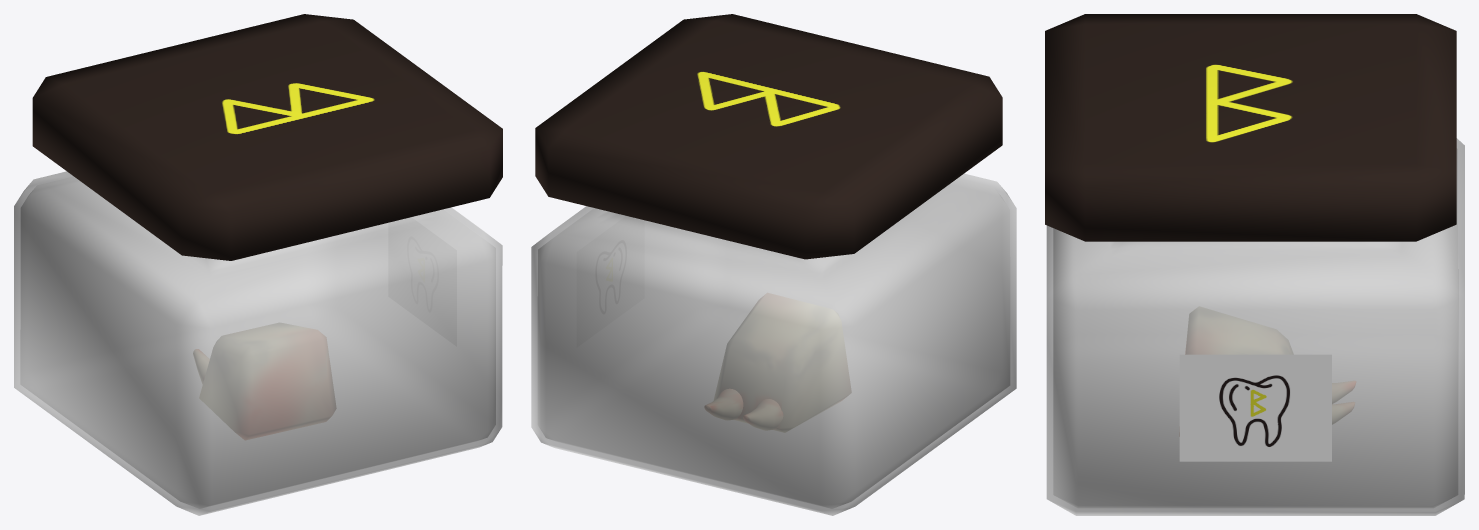
File: tooth3.fbx
3 views of the same model, side by side, from view 1: azimuth 30°, elevation 25°; view 2: azimuth 150°, elevation 25°; view 3: azimuth 270°, elevation 25° (orthographic). The views are drawn at different scales.
Visible parts, largest first — view 1: Jar, Cap, Tooth; view 2: Jar, Cap, Tooth; view 3: Jar, Cap, Label, Tooth.
Boxes of the visible parts, x1,y1,x2,y2 form: Jar: [14, 171, 502, 515]; Cap: [32, 14, 502, 260]; Tooth: [193, 323, 336, 439]; Jar: [531, 173, 1016, 515]; Cap: [535, 14, 1002, 259]; Tooth: [704, 293, 851, 432]; Jar: [1046, 138, 1464, 515]; Cap: [1045, 14, 1456, 241]; Label: [1179, 354, 1331, 461]; Tooth: [1179, 306, 1355, 435].
Bounding box in the file's own units: 323 × 294 × 320.
Materials: 4 (3 with a texture image).
